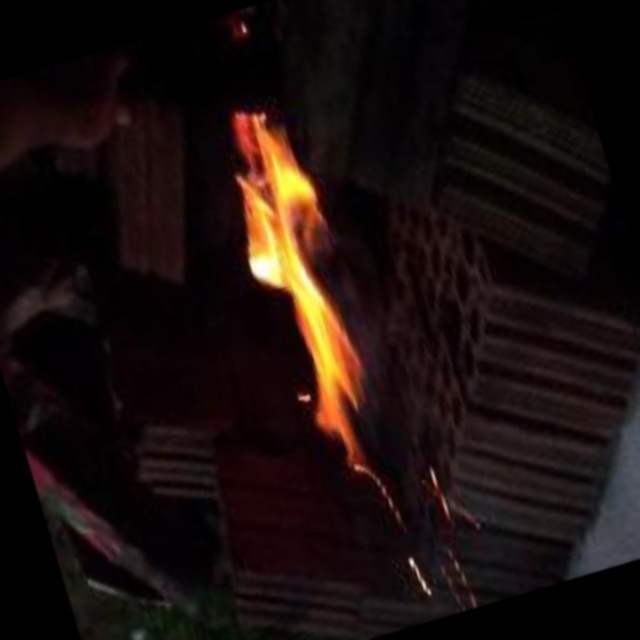fire: (160, 71, 446, 529)
